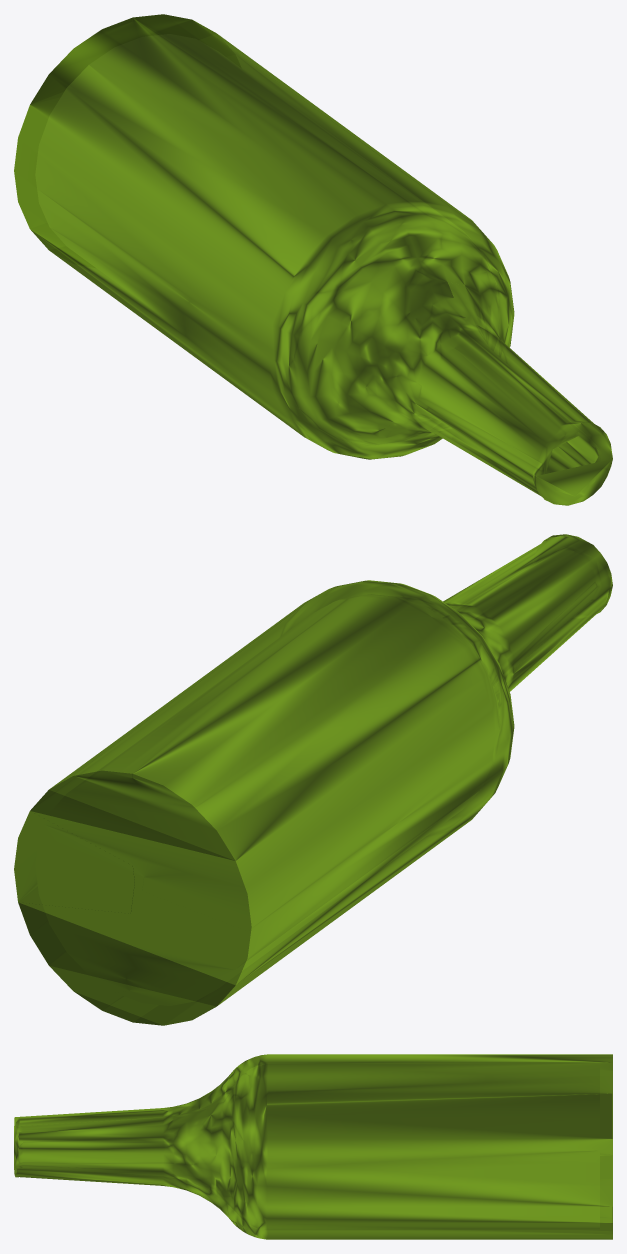
Rendered from model_align.obj.
The picture shows the model from 3 angles, top to bottom: view 1: azimuth 30°, elevation 25°; view 2: azimuth 150°, elevation 25°; view 3: azimuth 270°, elevation 25°; orthographic projection. The views are drawn at different scales.
Size of the model in its own units: 0.0854 by 0.0854 by 0.2751.
